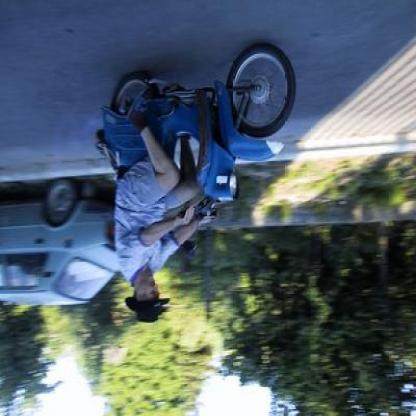car: (2, 177, 116, 309)
motorbike: (96, 42, 299, 223)
person: (114, 93, 206, 326)
